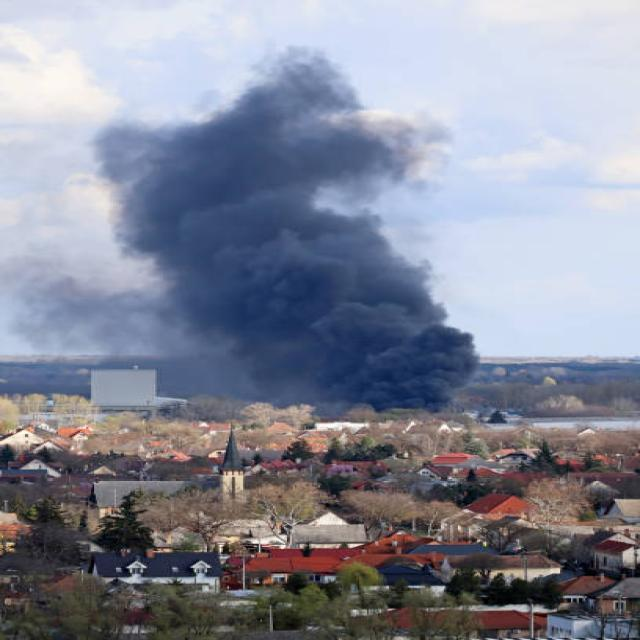Smoke: (108, 62, 494, 404)
